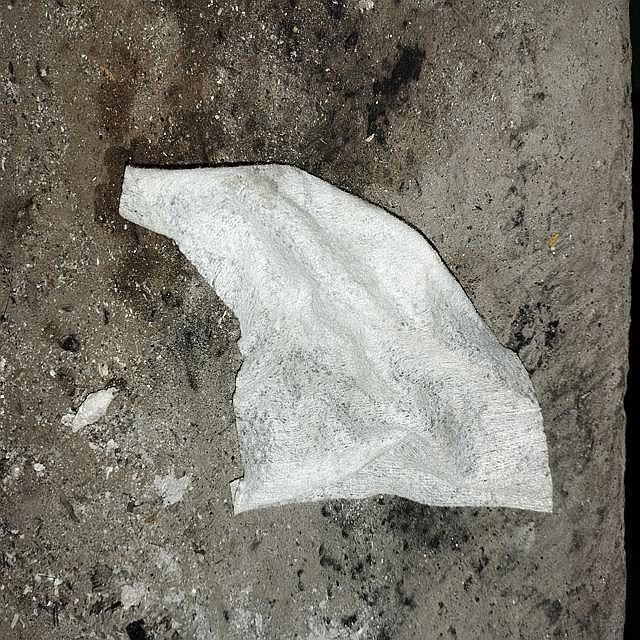Biodegradable: (101, 160, 555, 516)
